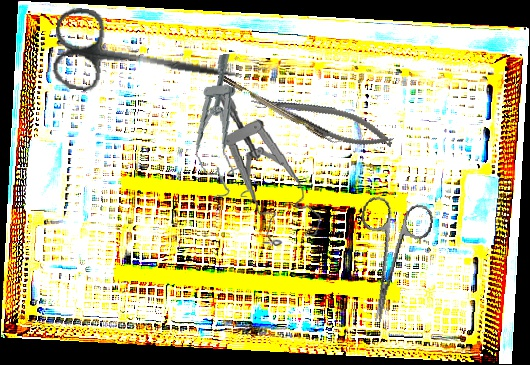Chopper: (217, 67, 345, 150)
Iris Scissors: (48, 5, 245, 112), (340, 193, 436, 330)
Needle Holder: (247, 78, 398, 160)
Speculum: (216, 82, 324, 251), (186, 52, 254, 202)
